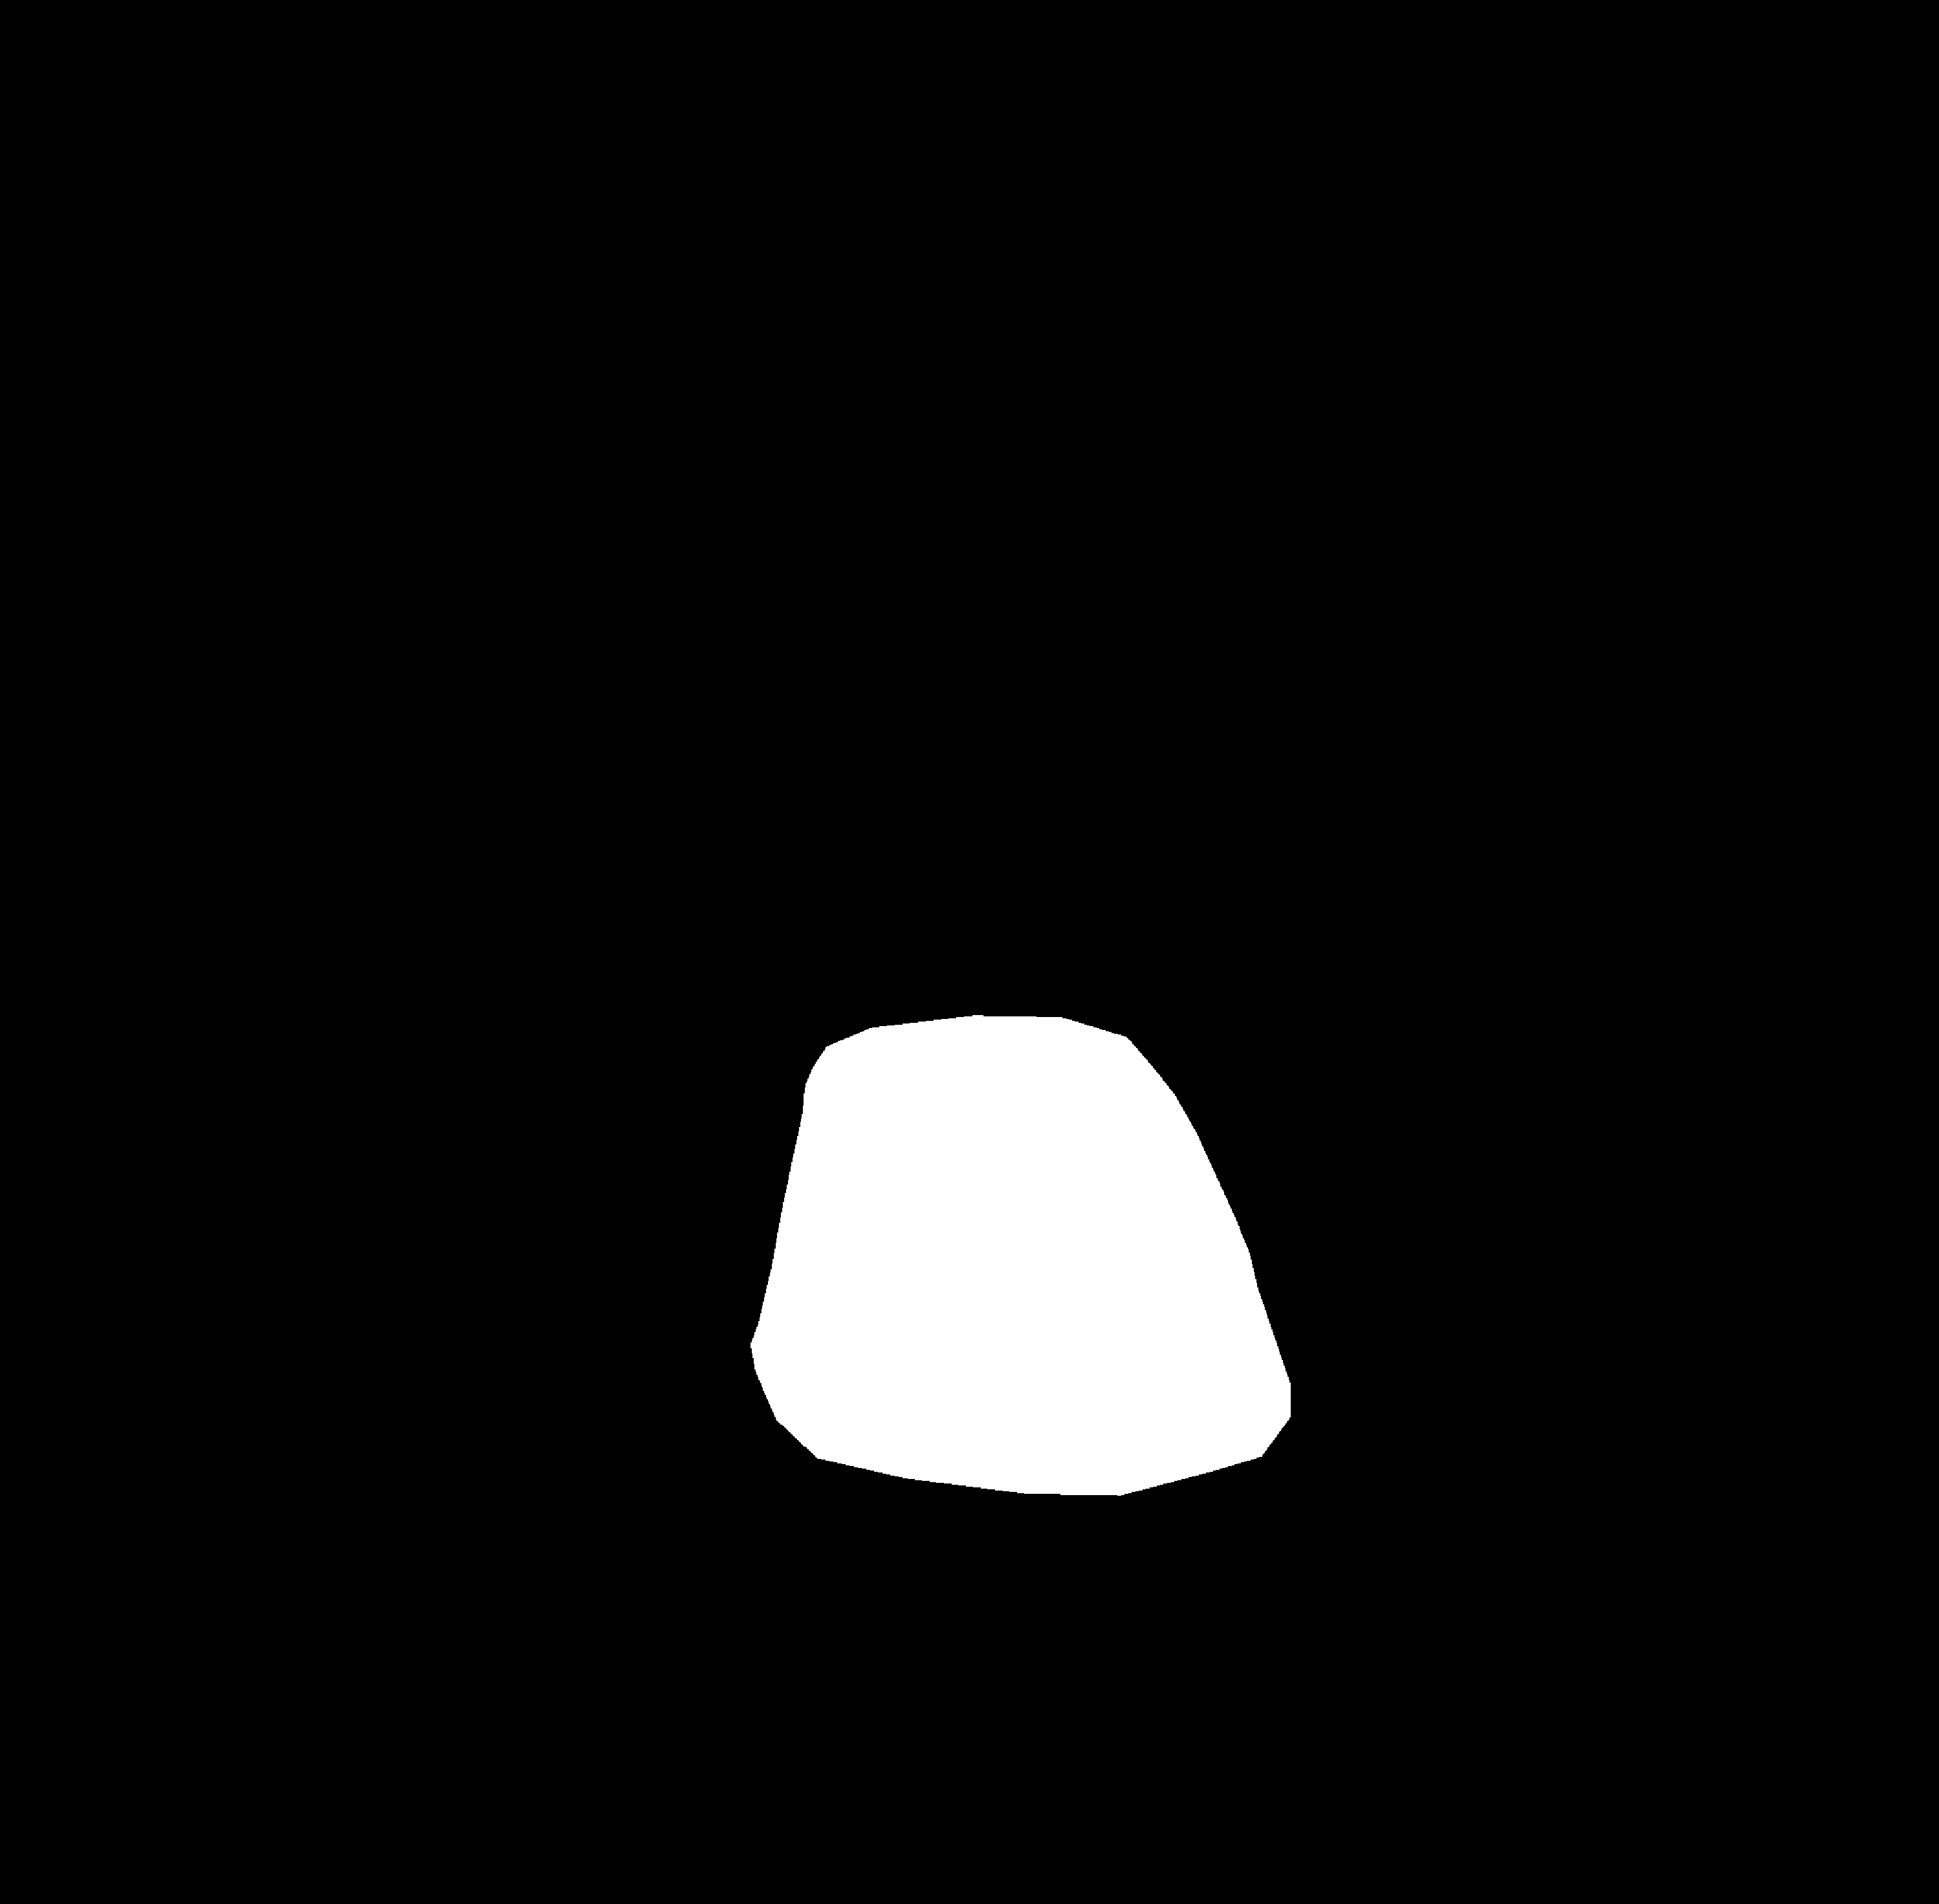heart: (748, 1116, 1296, 1493)
left_lung: (314, 274, 842, 1609)
right_lung: (985, 289, 1515, 1634)
